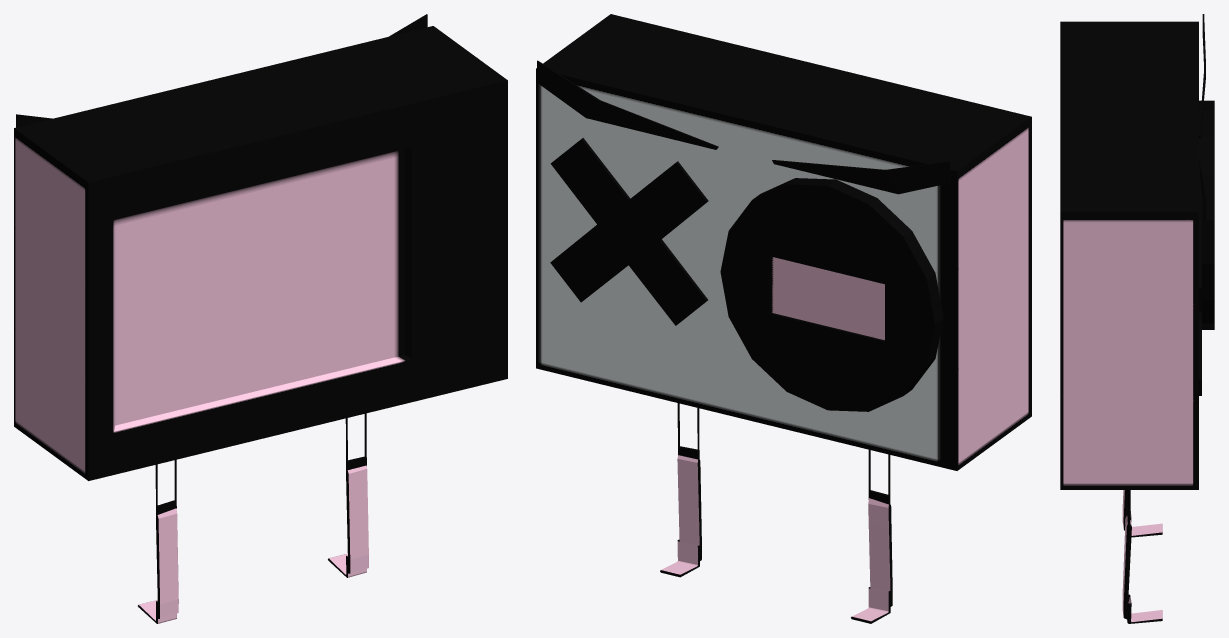
File: Enemigo 1.fbx
The picture shows the model from 3 angles, left to right: view 1: azimuth 30°, elevation 25°; view 2: azimuth 150°, elevation 25°; view 3: azimuth 270°, elevation 25°; orthographic projection. The views are drawn at different scales.
Parts seen in each view (by area): view 1: X, Pierna.izq.002, Pierna.der.002; view 2: X, Pierna.izq.002, Pierna.der.002, cejas.002.R, cejas.002.L; view 3: X, Pierna.der.002, Pierna.izq.002, cejas.002.L.
Part boxes in pixels (bbox=[...]): X: bbox=[14, 26, 507, 480]; Pierna.izq.002: bbox=[138, 459, 178, 623]; Pierna.der.002: bbox=[328, 413, 368, 577]; X: bbox=[536, 14, 1031, 470]; Pierna.izq.002: bbox=[851, 449, 892, 623]; Pierna.der.002: bbox=[660, 403, 701, 577]; cejas.002.R: bbox=[537, 60, 718, 149]; cejas.002.L: bbox=[772, 160, 950, 194]; X: bbox=[1060, 21, 1214, 489]; Pierna.der.002: bbox=[1122, 490, 1162, 623]; Pierna.izq.002: bbox=[1122, 490, 1162, 537]; cejas.002.L: bbox=[1199, 14, 1205, 137].
Bounding box in the file's own units: 294 × 338 × 101.
5 materials, 5 textured.
